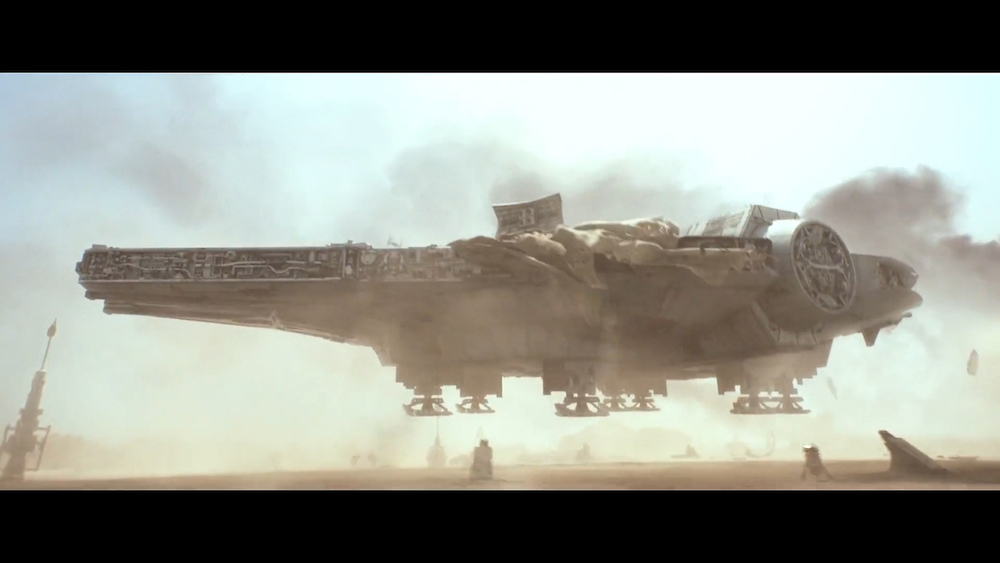Millennium Falcon: (77, 201, 923, 391)
